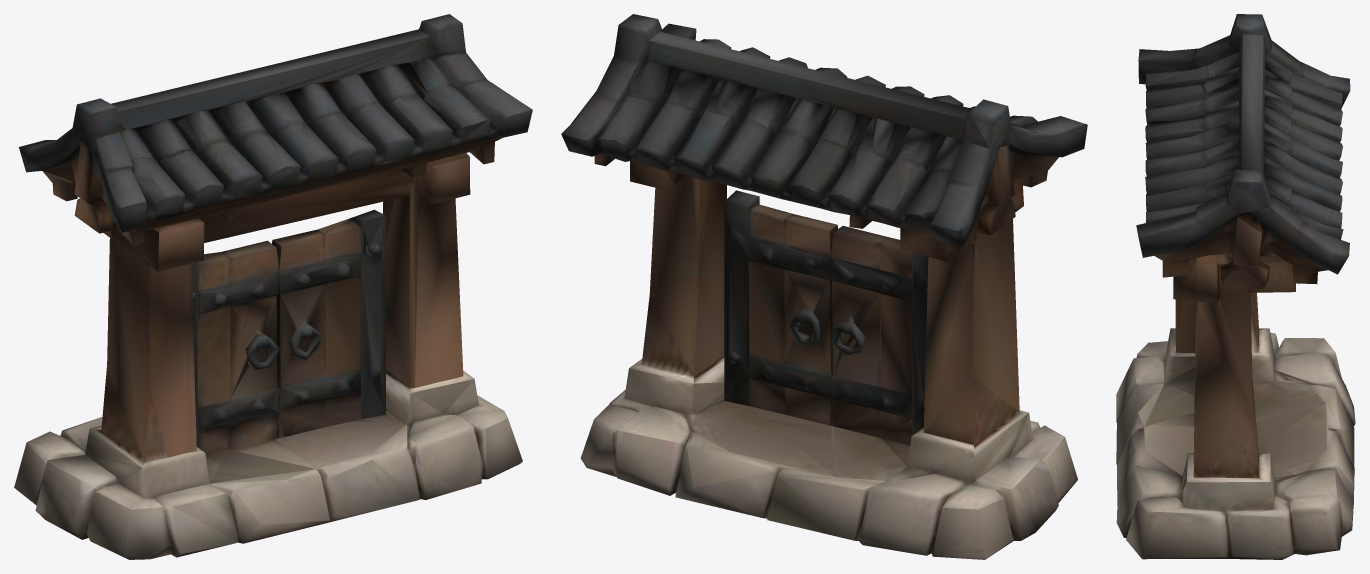
The model's file is gate.glb.
The picture shows the model from 3 angles, left to right: view 1: azimuth 30°, elevation 25°; view 2: azimuth 150°, elevation 25°; view 3: azimuth 270°, elevation 25°; orthographic projection. The views are drawn at different scales.
Parts seen in each view (by area): view 1: tripo_node_5cd0283d-8a22-448d-a9f3-e9bfe821bcc4; view 2: tripo_node_5cd0283d-8a22-448d-a9f3-e9bfe821bcc4; view 3: tripo_node_5cd0283d-8a22-448d-a9f3-e9bfe821bcc4.
Boxes of the visible parts, bbox=[...] form: tripo_node_5cd0283d-8a22-448d-a9f3-e9bfe821bcc4: bbox=[14, 14, 532, 559]; tripo_node_5cd0283d-8a22-448d-a9f3-e9bfe821bcc4: bbox=[561, 14, 1087, 559]; tripo_node_5cd0283d-8a22-448d-a9f3-e9bfe821bcc4: bbox=[1116, 14, 1355, 559].
Bounding box in the file's own units: 0.9801 × 0.8969 × 0.5167.
1 material, 1 textured.
